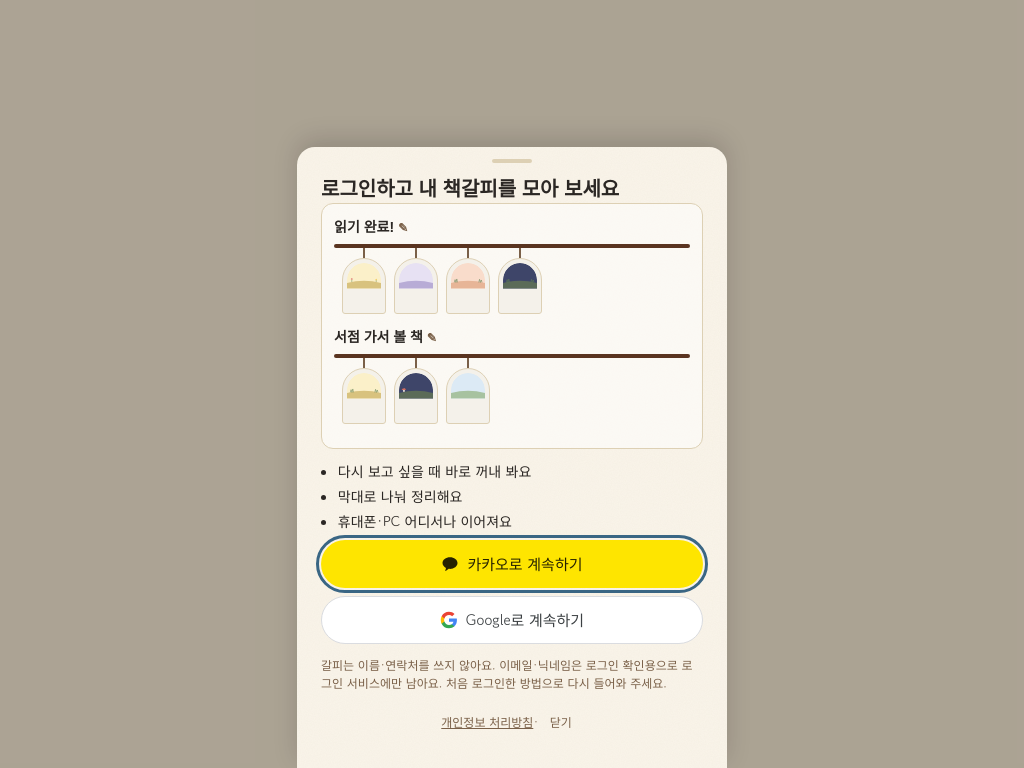
Test case: LoginSheet (S-07, C-12) › says so when the login could not start, and lets the person try again
What coordinates should you click on to do the following:
click the button "Google로 계속하기"
I would click on:
 (512, 620)
Its box is x1=321 y1=596 x2=703 y2=644.
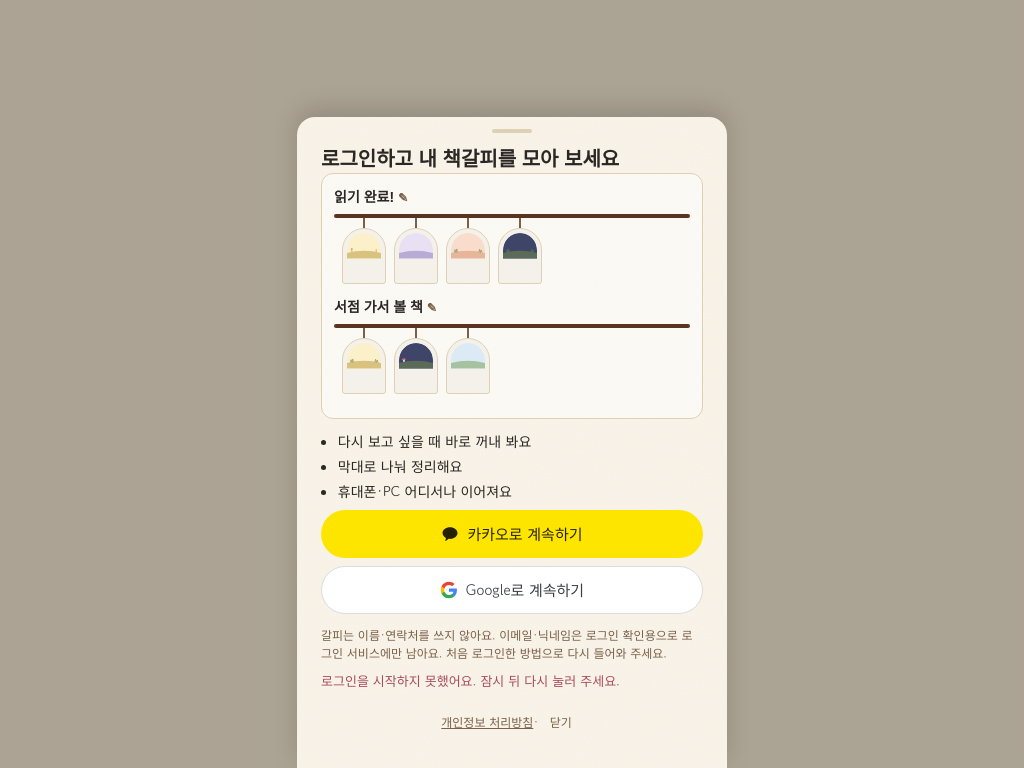
expect the button "Google로 계속하기" is enabled: met, box x1=321 y1=566 x2=703 y2=614
expect the message reads "로그인을 시작하지 못했어요. 잠시 뒤 다시 눌러 주세요.": met, box x1=321 y1=671 x2=620 y2=690
